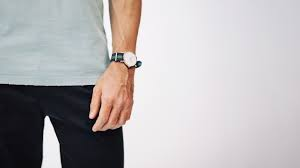hand: (76, 45, 160, 135)
